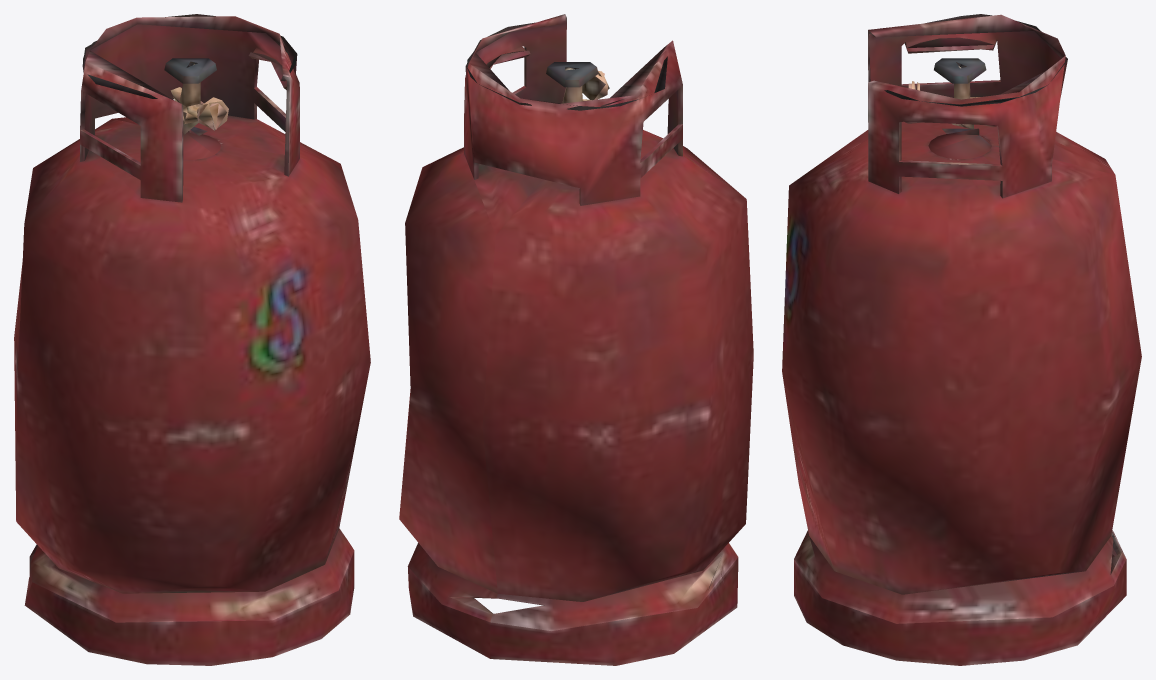
Rendered from propane_tank.glb.
3 renders of one model, left to right at view 1: azimuth 30°, elevation 25°; view 2: azimuth 150°, elevation 25°; view 3: azimuth 270°, elevation 25°, orthographic.
Visible parts, largest first — view 1: propane_tank; view 2: propane_tank; view 3: propane_tank.
Boxes of the visible parts, bbox=[...] form: propane_tank: bbox=[14, 14, 370, 665]; propane_tank: bbox=[399, 14, 753, 665]; propane_tank: bbox=[782, 14, 1141, 665].
Size of the model in its own units: 0.3341 by 0.5534 by 0.3341.
1 material, 1 textured.
